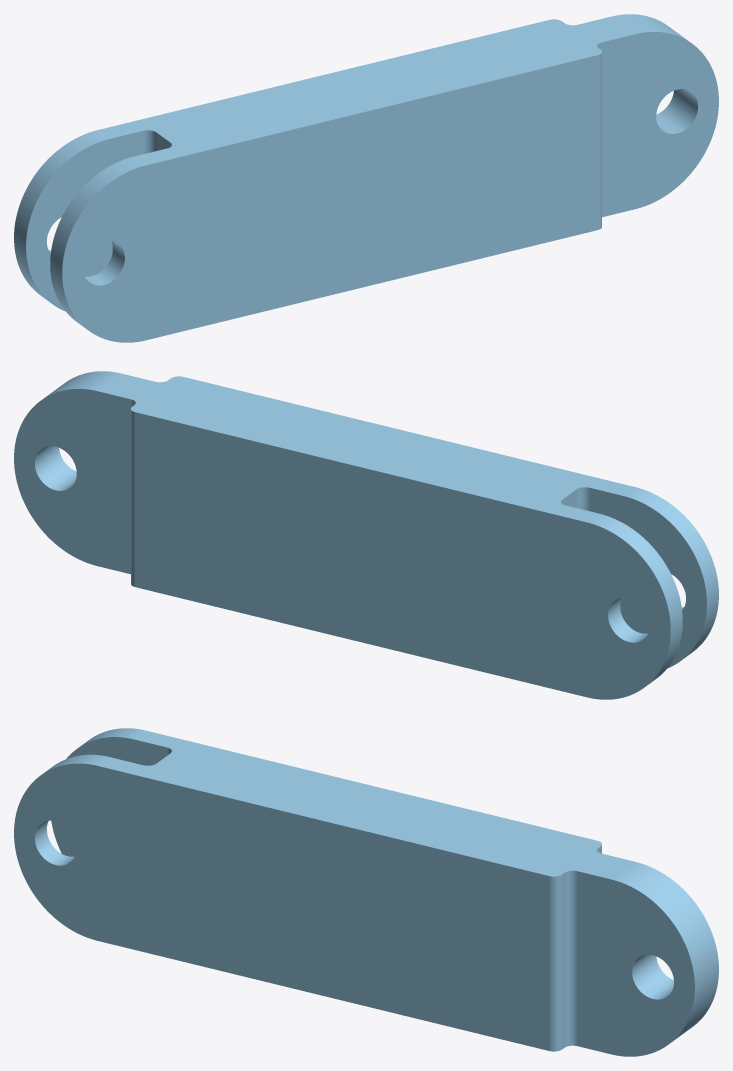
The model's file is link1_large.dae.
3 views of the same model, one above another, from view 1: azimuth 30°, elevation 25°; view 2: azimuth 150°, elevation 25°; view 3: azimuth 330°, elevation 25° (orthographic).
Parts seen in each view (by area): view 1: 5eb21c6168f82f15e42f73cf; view 2: 5eb21c6168f82f15e42f73cf; view 3: 5eb21c6168f82f15e42f73cf.
Boxes of the visible parts, left/top/right/bottom form: 5eb21c6168f82f15e42f73cf: left=14, top=14, right=718, bottom=342; 5eb21c6168f82f15e42f73cf: left=14, top=371, right=718, bottom=699; 5eb21c6168f82f15e42f73cf: left=14, top=728, right=718, bottom=1056.
Bounding box in the file's own units: 0.8 × 0.1 × 0.2.
